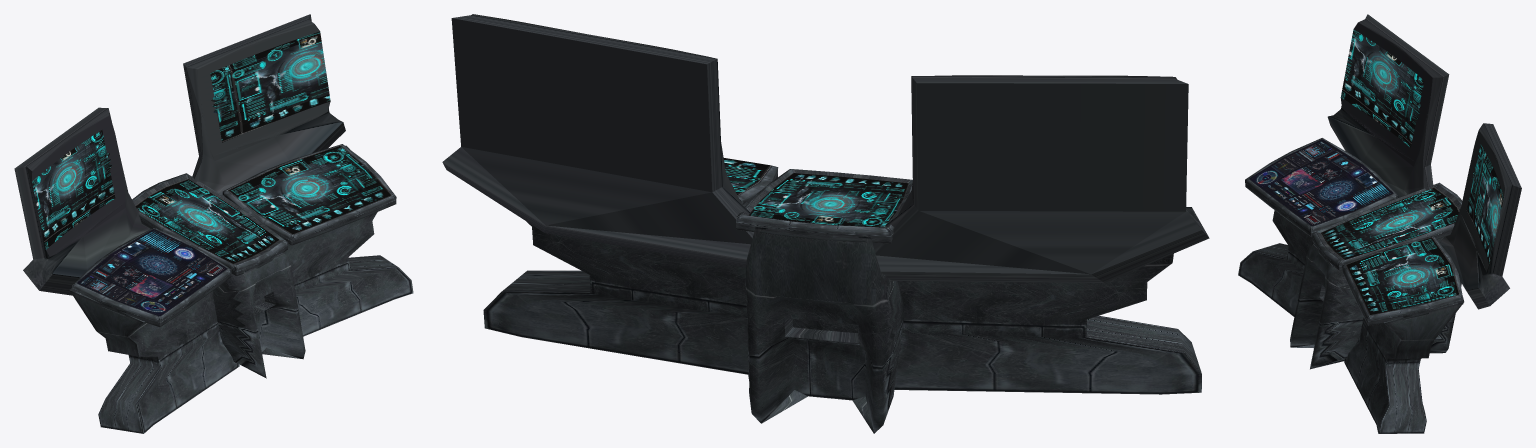
File: console-de-commandement.glb
3 renders of one model, left to right at view 1: azimuth 30°, elevation 25°; view 2: azimuth 150°, elevation 25°; view 3: azimuth 270°, elevation 25°, orthographic. The views are drawn at different scales.
Visible parts, largest first — view 1: MaterialFBXASC032FBXASC0352142146907, MaterialFBXASC032FBXASC03511186, MaterialFBXASC032FBXASC0352142146802; view 2: MaterialFBXASC032FBXASC0352142146907, MaterialFBXASC032FBXASC03511186; view 3: MaterialFBXASC032FBXASC0352142146907, MaterialFBXASC032FBXASC03511186, MaterialFBXASC032FBXASC0352142146802.
Boxes of the visible parts, bbox=[...] form: MaterialFBXASC032FBXASC0352142146907: bbox=[14, 14, 413, 433]; MaterialFBXASC032FBXASC03511186: bbox=[32, 31, 391, 264]; MaterialFBXASC032FBXASC0352142146802: bbox=[77, 229, 227, 316]; MaterialFBXASC032FBXASC0352142146907: bbox=[442, 14, 1209, 433]; MaterialFBXASC032FBXASC03511186: bbox=[723, 158, 908, 227]; MaterialFBXASC032FBXASC0352142146907: bbox=[1238, 14, 1521, 433]; MaterialFBXASC032FBXASC03511186: bbox=[1321, 29, 1503, 315]; MaterialFBXASC032FBXASC0352142146802: bbox=[1249, 139, 1393, 226].
Size of the model in its own units: 14.36 by 8.18 by 8.82.
3 materials, 3 textured.
